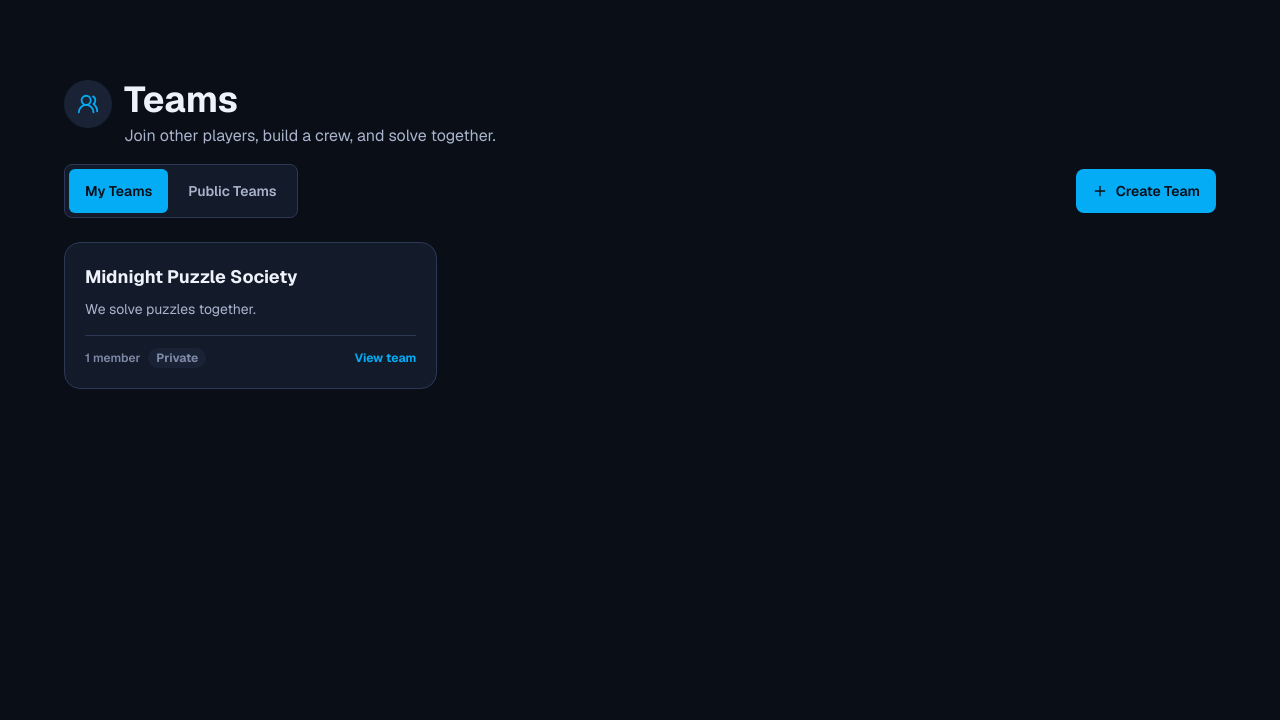
Teams hub page — existing modal wiring › 49. authenticated Create Team control opens CreateTeamModal
Click the button with test id "teams-hub-create": click(1146, 191) [1076,169,1216,213]
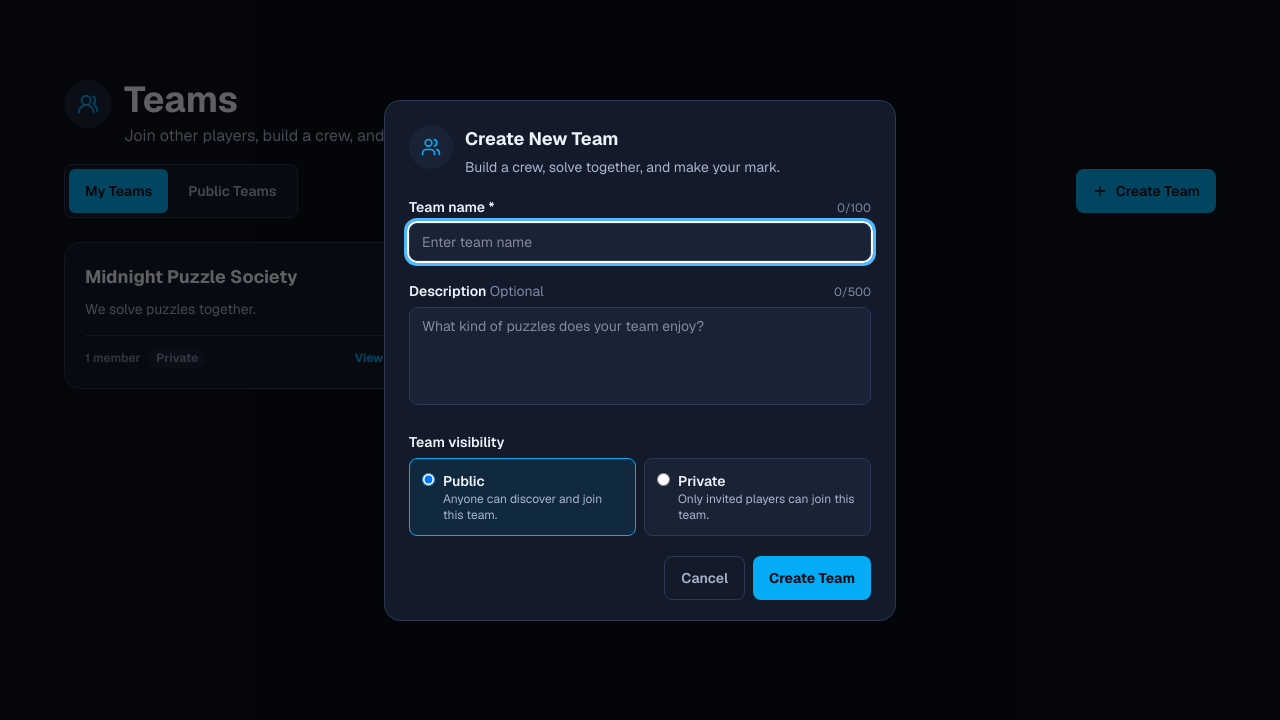
Expected: the heading "Create New Team" is shown, [465,126,619,150]
